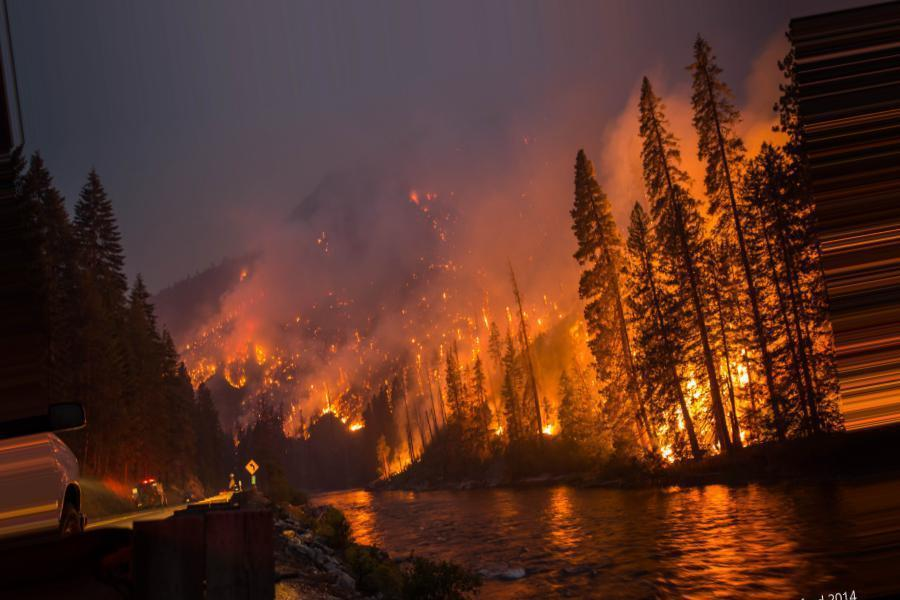fire: (410, 243, 831, 475), (181, 251, 431, 458)
